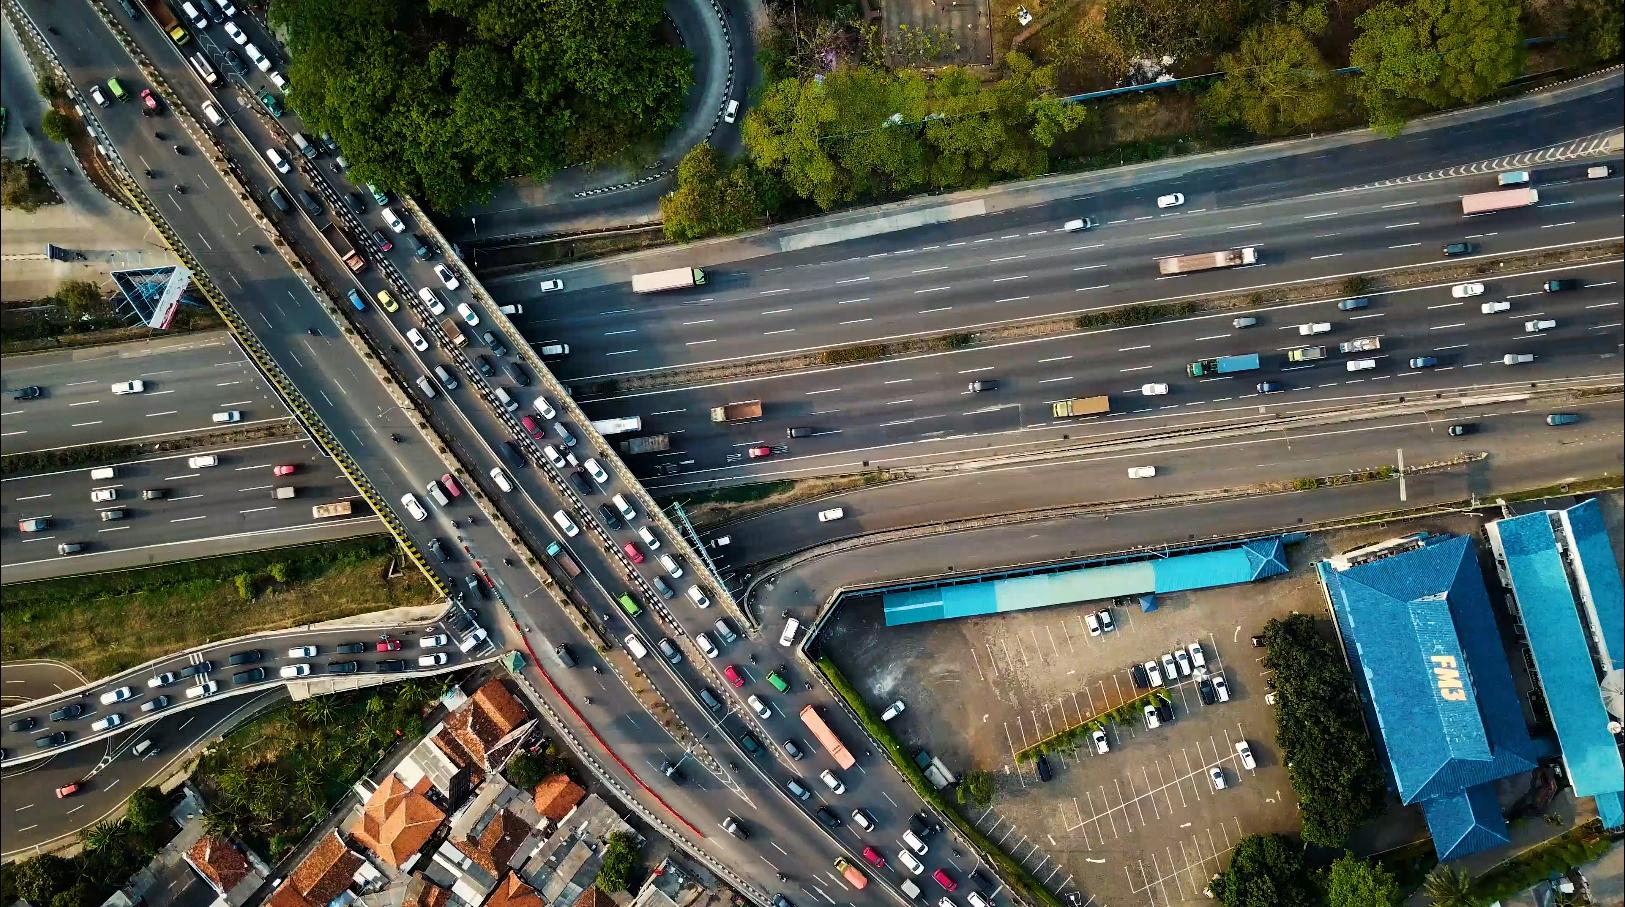vehicles: (785, 746, 791, 779)
